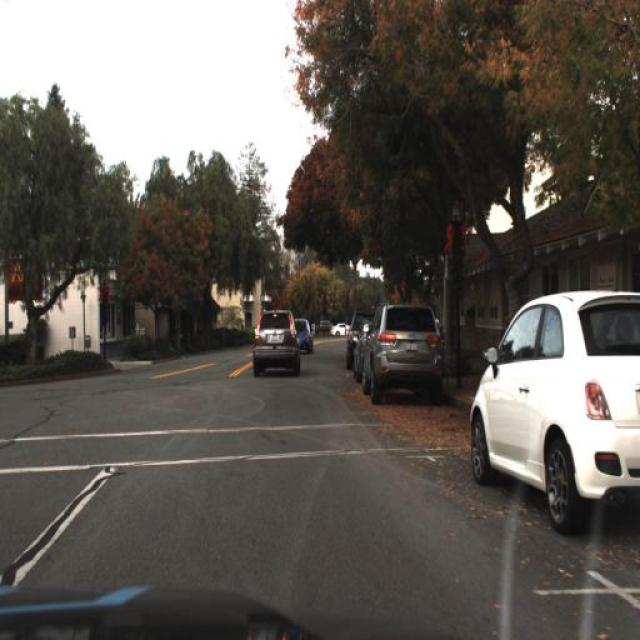car: (470, 290, 640, 541), (358, 300, 443, 402), (251, 307, 301, 383), (290, 315, 314, 357)
